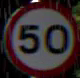Speed limit: (3, 2, 79, 74)
